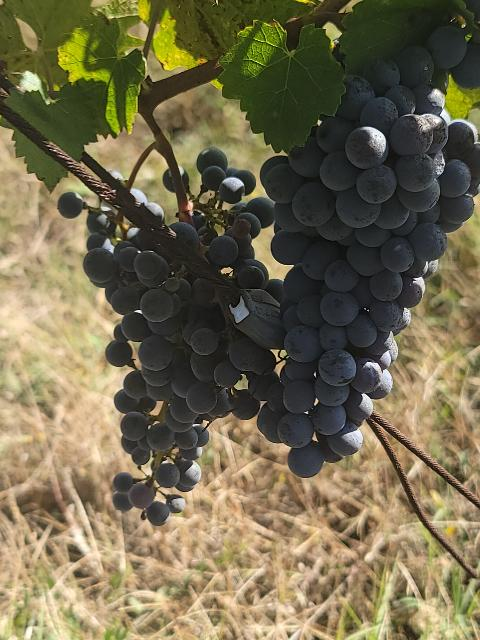grapes: (259, 46, 480, 478), (59, 192, 282, 525), (170, 148, 271, 290)
